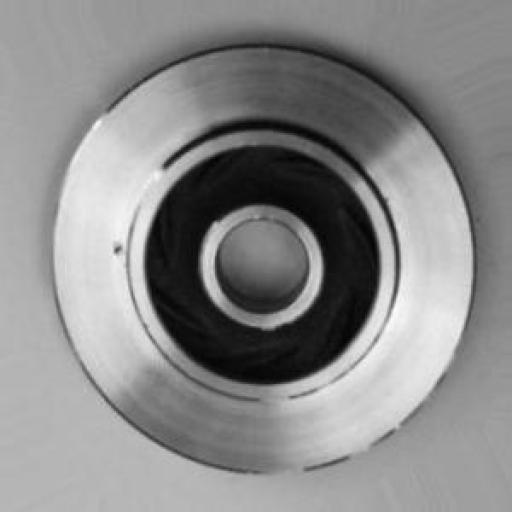defect: (85, 186, 140, 292)
